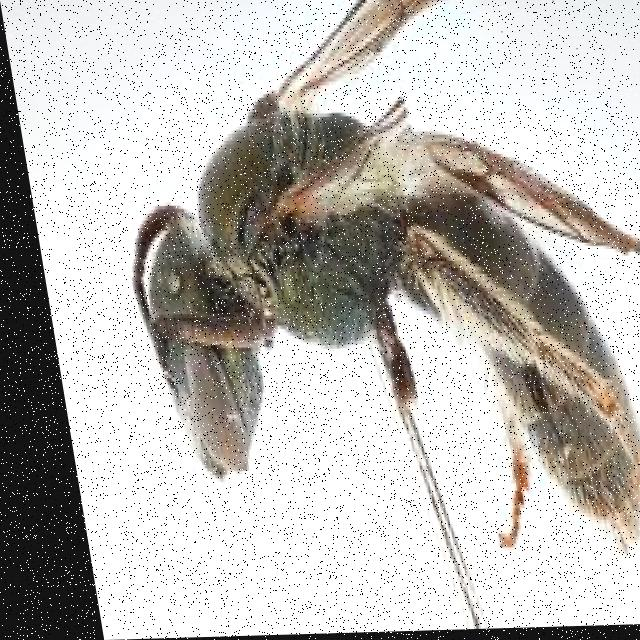Lasioglossum: (85, 0, 640, 617)
